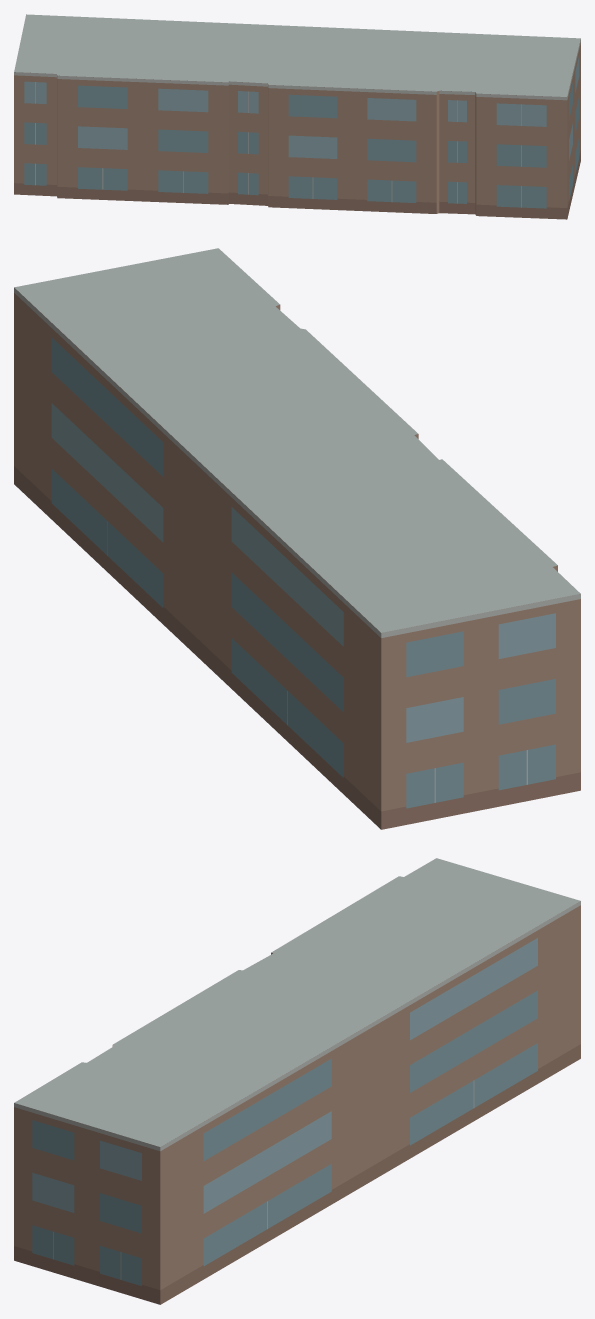
Rendered from survey-upis-32917388.glb.
The picture shows the model from 3 angles, top to bottom: view 1: azimuth 30°, elevation 25°; view 2: azimuth 150°, elevation 25°; view 3: azimuth 270°, elevation 25°; orthographic projection. The views are drawn at different scales.
Parts seen in each view (by area): view 1: survey-upis-32917388.tmp; view 2: survey-upis-32917388.tmp; view 3: survey-upis-32917388.tmp.
Boxes of the visible parts, <box> form: survey-upis-32917388.tmp: <box>14,14,580,219</box>; survey-upis-32917388.tmp: <box>14,248,580,829</box>; survey-upis-32917388.tmp: <box>14,858,580,1304</box>.
Size of the model in its own units: 35.96 by 9.15 by 29.8.
